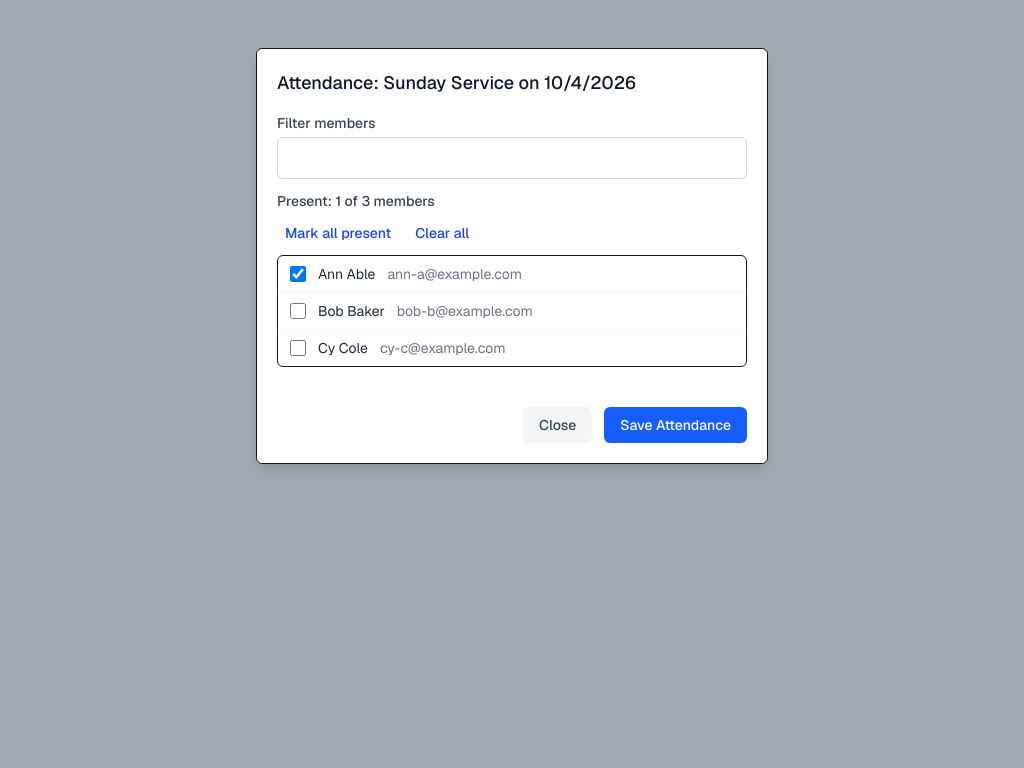
Test: AttendanceSheet › clears the filter on Escape without closing, and Enter does not save
Expected: the checkbox labelled "Ann Able" is shown, [290,266,306,282]
Type "bo" into the search field labelled "Filter members" at (512, 158), box [277,137,747,179]
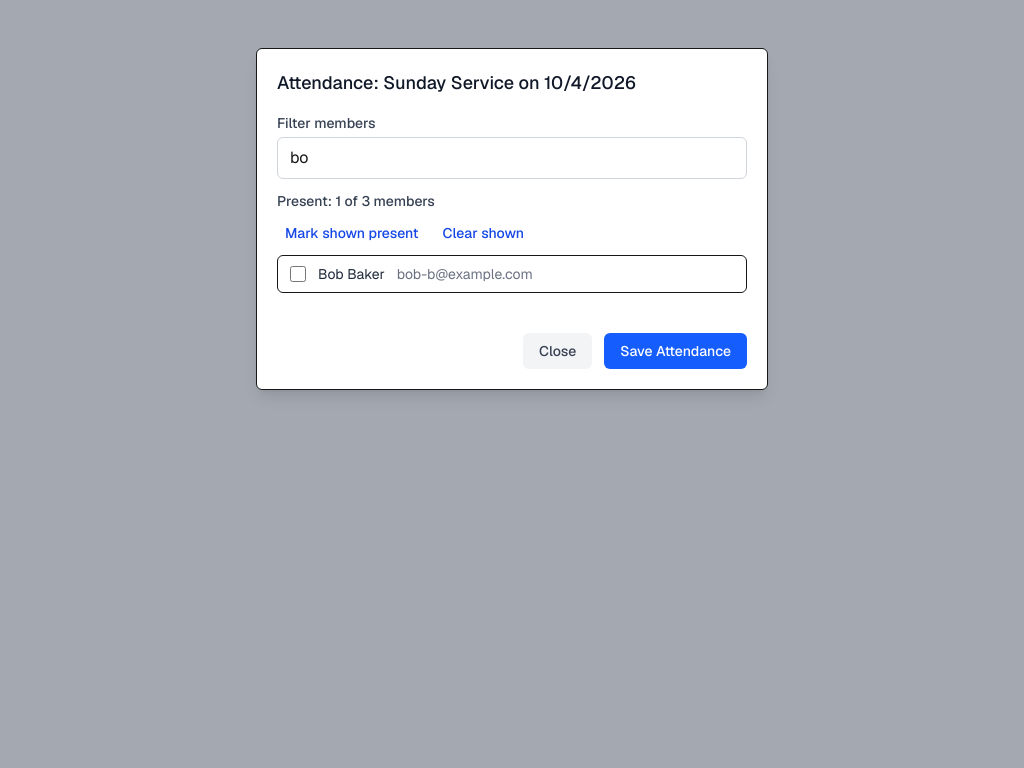
Press Enter in the search field labelled "Filter members", box [277,137,747,179]
Press Escape in the search field labelled "Filter members", box [277,137,747,179]
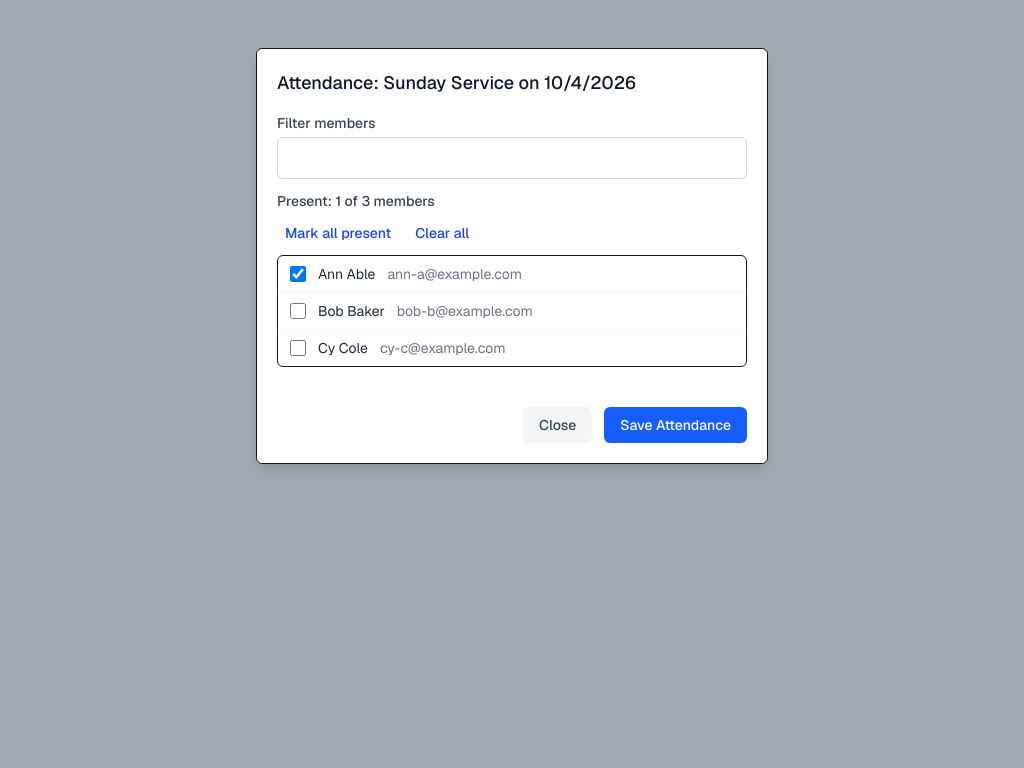
Expected: the dialog "Attendance: " is shown, [256,48,768,464]
Now the search field labelled "Filter members" is empty, box [277,137,747,179]
Now the number of checkboxes is 3, box [290,266,306,282]; [290,303,306,319]; [290,340,306,356]
